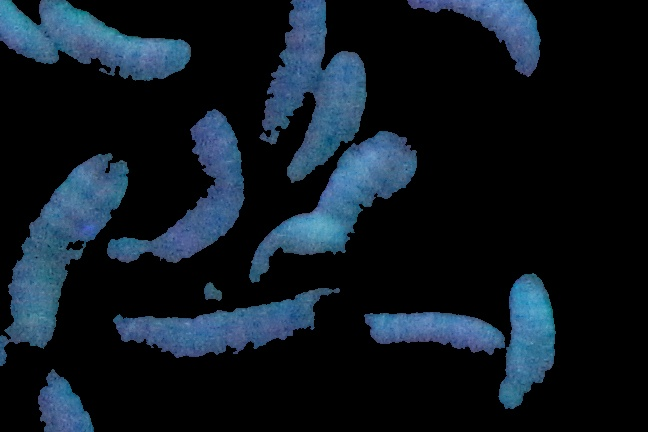larvae: (92, 281, 352, 395), (1, 132, 136, 351), (281, 118, 438, 282), (136, 84, 242, 285), (389, 1, 552, 94), (33, 1, 193, 85), (486, 264, 564, 413), (362, 292, 493, 378), (254, 1, 326, 157), (291, 53, 369, 175)
